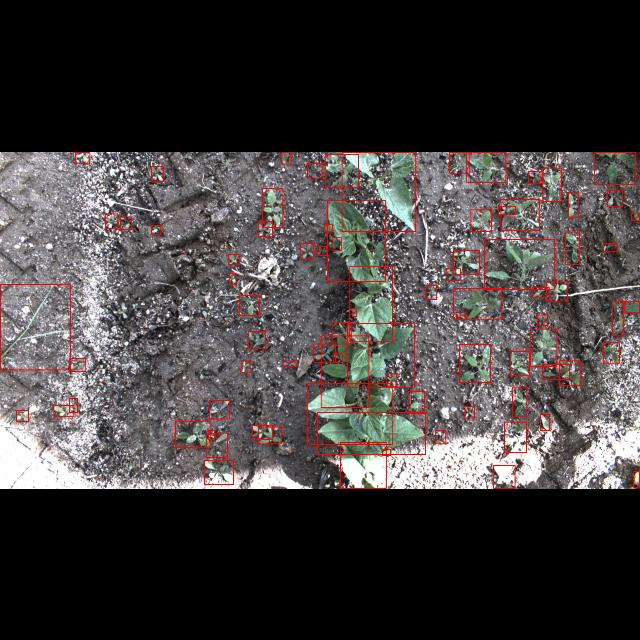crop: (342, 151, 416, 231), (308, 382, 392, 443), (327, 200, 385, 280), (317, 412, 425, 454), (348, 323, 414, 387), (350, 265, 392, 341), (340, 442, 386, 488)
weed: (0, 284, 70, 370), (485, 238, 555, 288), (321, 335, 369, 407), (452, 288, 502, 318), (594, 151, 636, 183), (501, 198, 539, 230), (466, 151, 506, 181), (460, 344, 490, 382), (325, 154, 359, 186), (531, 328, 557, 366), (176, 420, 210, 448), (262, 188, 282, 226), (204, 460, 233, 484), (542, 167, 562, 201), (505, 422, 527, 452), (453, 249, 479, 273), (206, 433, 228, 457), (510, 350, 530, 376), (560, 360, 580, 386), (494, 464, 514, 488), (565, 231, 579, 263), (542, 364, 570, 380), (471, 209, 491, 231), (258, 426, 282, 444), (612, 300, 624, 336), (513, 386, 527, 416), (332, 322, 351, 344), (239, 295, 259, 315), (449, 152, 469, 172), (314, 343, 336, 361), (546, 282, 568, 300), (209, 399, 229, 418), (408, 391, 424, 413), (248, 330, 266, 348), (603, 342, 619, 362), (252, 425, 272, 439), (608, 188, 622, 206), (54, 404, 74, 416), (569, 192, 579, 216), (258, 220, 272, 236), (300, 242, 314, 258), (308, 162, 322, 178), (70, 358, 86, 370), (624, 300, 640, 312), (105, 212, 117, 228), (532, 286, 550, 296), (151, 166, 163, 180), (528, 170, 542, 182), (446, 268, 460, 280), (434, 430, 446, 444), (74, 152, 90, 162), (540, 414, 550, 430), (498, 206, 516, 214), (120, 216, 132, 228), (68, 398, 78, 412), (603, 242, 617, 252), (426, 285, 436, 299), (16, 411, 28, 422), (228, 253, 240, 263), (387, 374, 397, 386), (537, 314, 547, 326), (465, 406, 475, 418), (332, 237, 341, 250), (633, 470, 639, 488), (242, 360, 250, 372), (282, 151, 290, 163), (282, 360, 298, 366), (333, 352, 342, 362), (151, 224, 161, 233), (230, 272, 237, 284), (318, 246, 327, 254), (631, 212, 639, 220), (208, 429, 215, 438), (456, 312, 466, 318), (324, 223, 332, 230), (383, 449, 391, 455), (352, 308, 356, 316)
